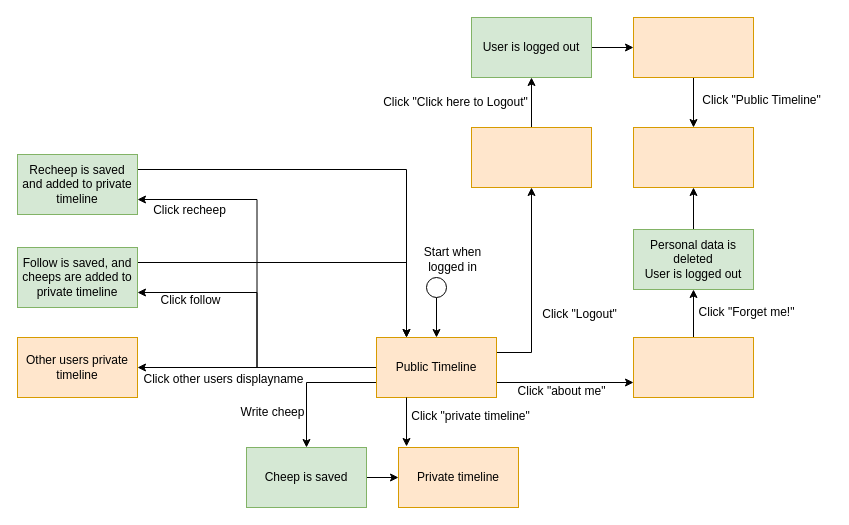
The diagram is 849 pixels wide and 525 high, and some of its shapes have lost their labels. The shapes that lost their labels are listed below. From the top down, each one's box as (x1, y1, x2, y2) in pixels, then its label:
(632, 16, 754, 78): Logout page (Logged out)
(470, 126, 592, 188): Logout page
(632, 126, 754, 188): Public timeline (unauthorized)
(632, 336, 754, 398): "About me" page
